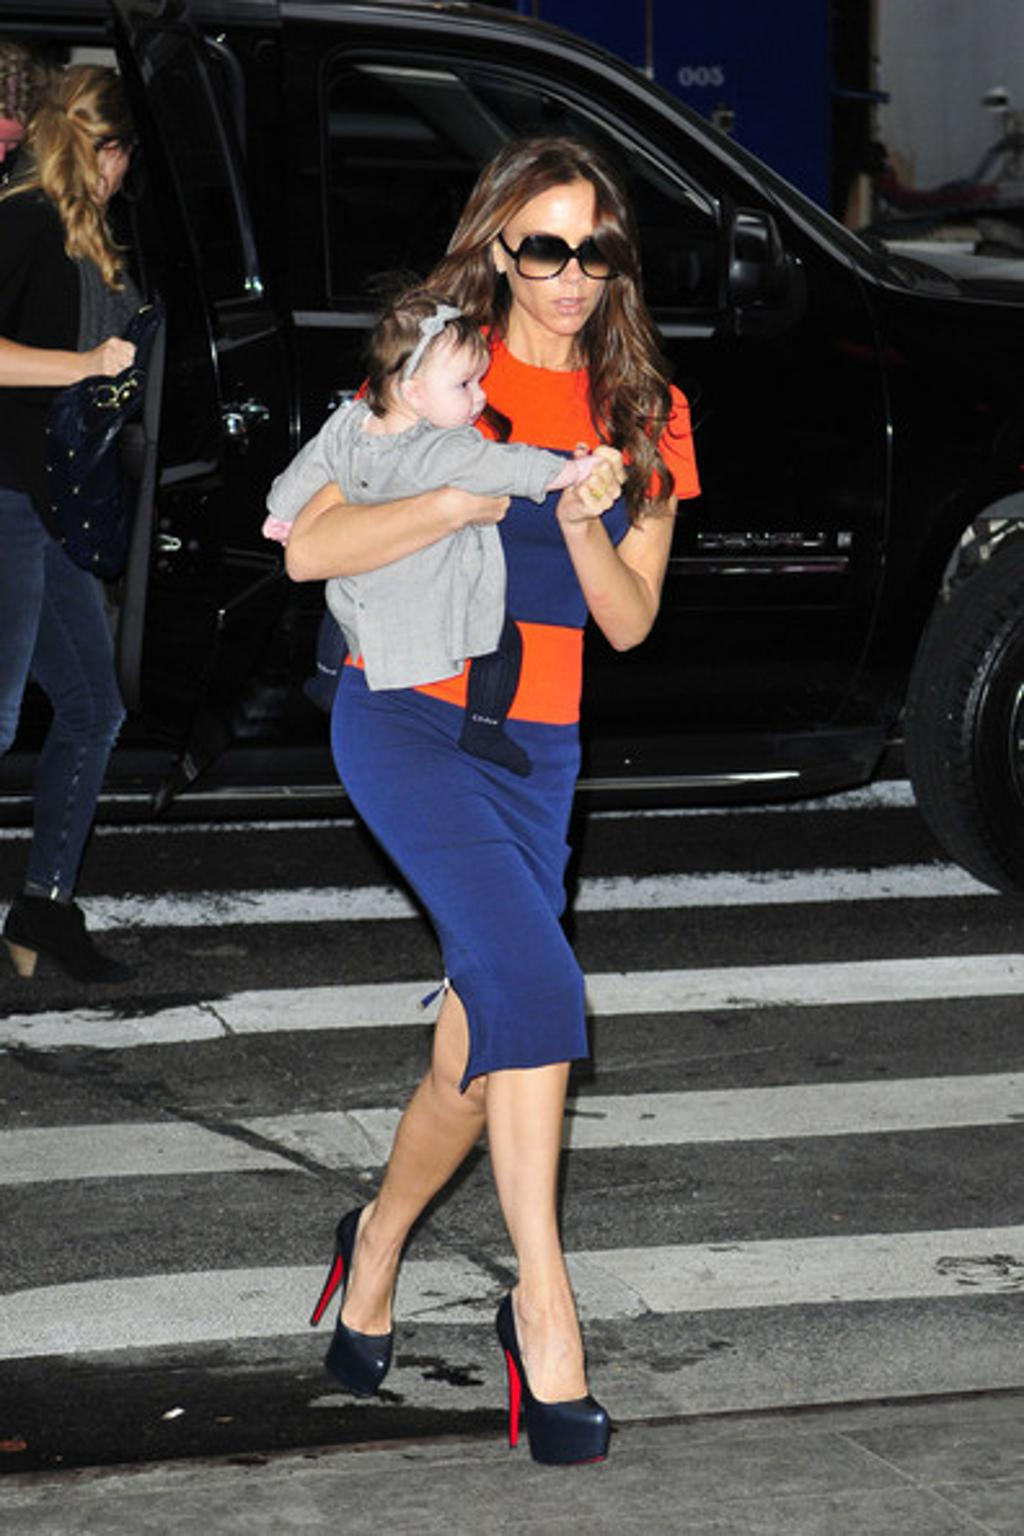face: (514, 189, 616, 330), (411, 327, 495, 426)
